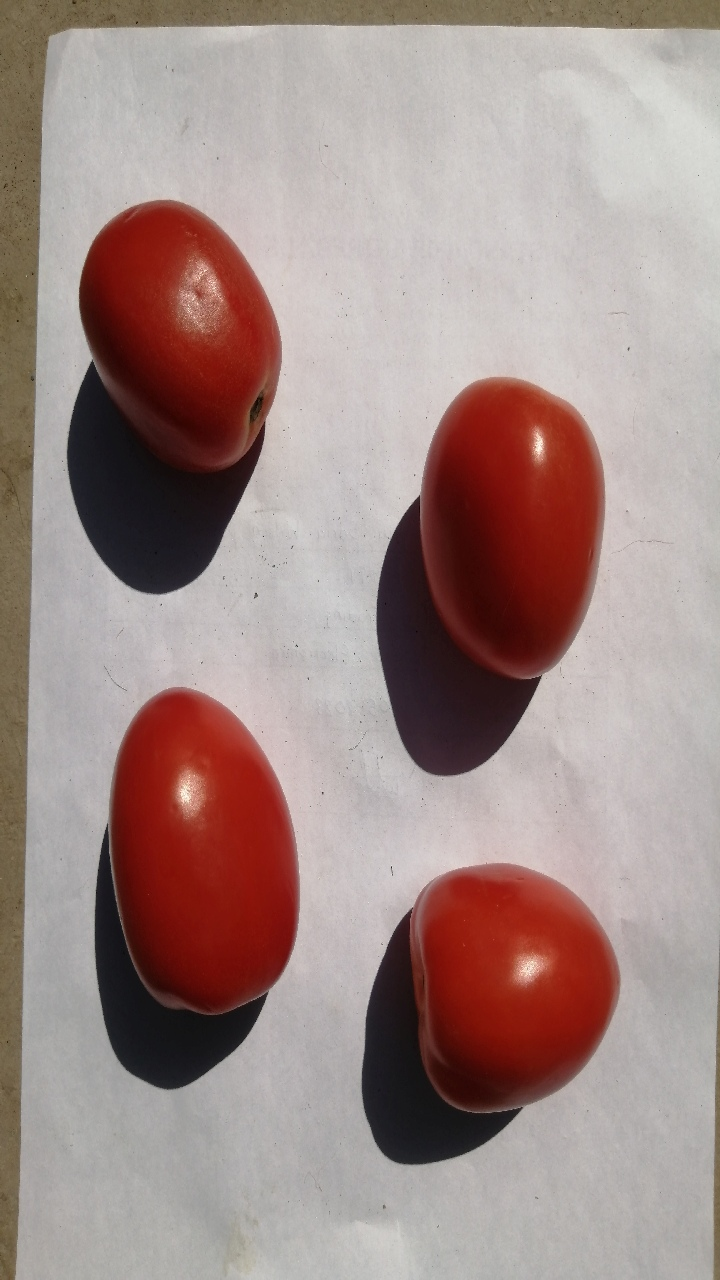tomateRojo: (80, 662, 323, 1042), (391, 825, 655, 1162), (388, 345, 617, 702), (64, 191, 323, 477)
